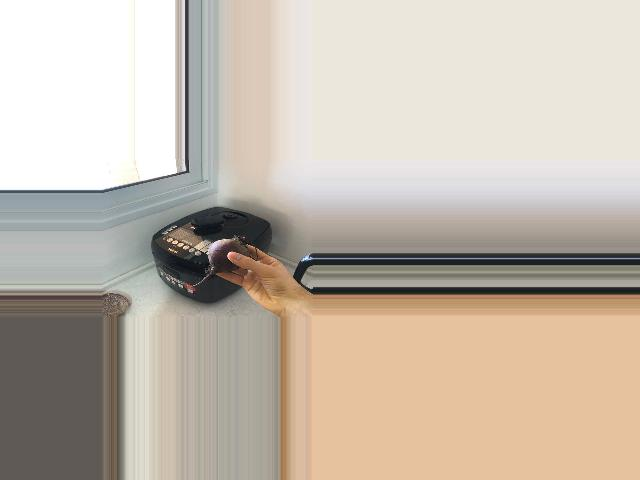beet: (192, 235, 256, 287)
